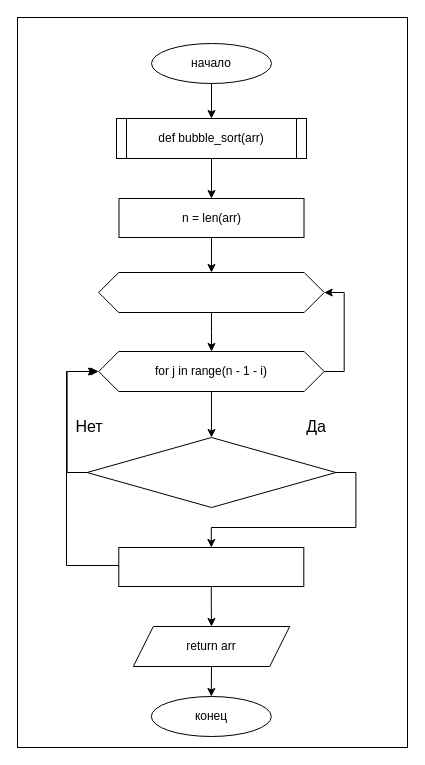
The diagram is 425 pixels wide and 765 high, and some of its shapes have lost their labels. Here are the shapes that lost their labels. From the top down, the centre of each, then its label:
the point at 211,292: for i in range(n - 1)
the point at 211,472: arr[j] > arr[j + 1]
the point at 211,566: arr[j], arr[j + 1] = arr[j + 1], arr[j]
